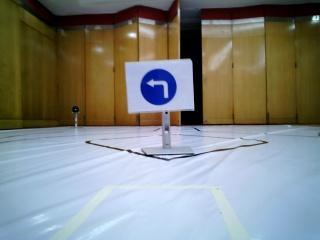left: (126, 61, 191, 107)
